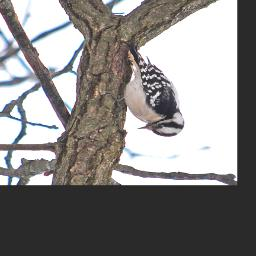Woodpecker: (108, 42, 185, 137)
